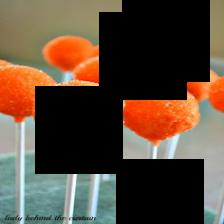orange: (32, 80, 125, 142), (123, 85, 200, 145), (0, 65, 56, 122), (154, 61, 218, 101), (73, 55, 139, 93), (43, 35, 92, 72), (93, 42, 142, 70)
